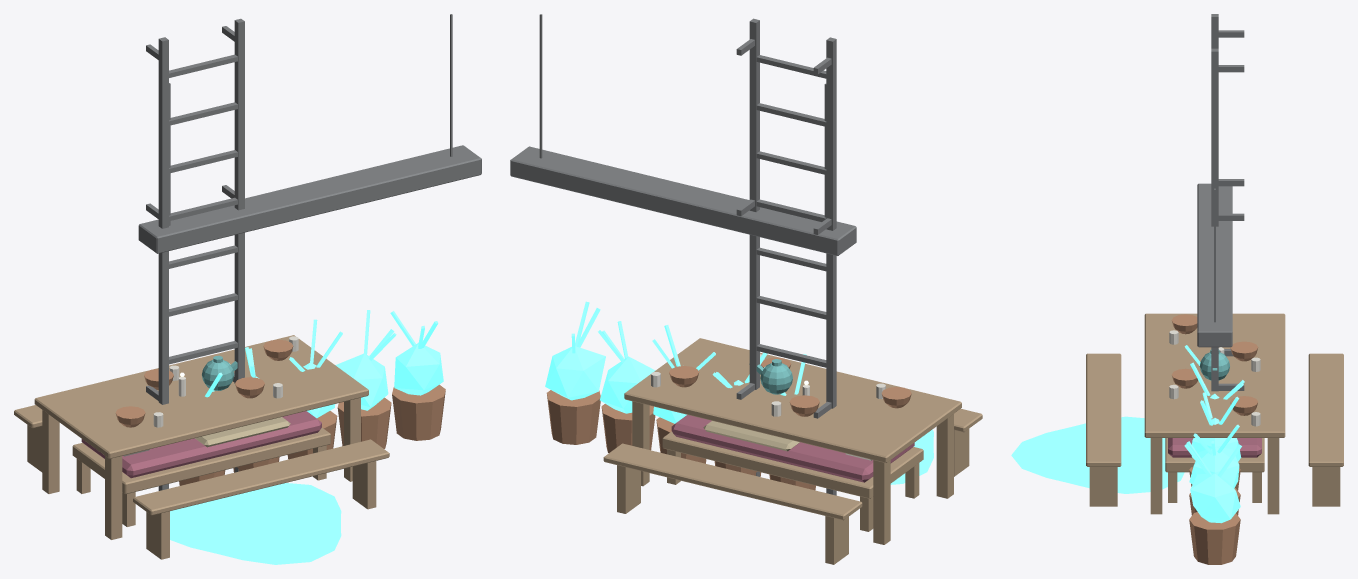
Rendered from under_safe.glb.
The picture shows the model from 3 angles, left to right: view 1: azimuth 30°, elevation 25°; view 2: azimuth 150°, elevation 25°; view 3: azimuth 270°, elevation 25°; orthographic projection. The views are drawn at different scales.
Visible parts, largest first — view 1: us_table_mesh, us_ladder_mesh, us_garden_mesh, us_cot_mesh; view 2: us_table_mesh, us_garden_mesh, us_ladder_mesh, us_cot_mesh; view 3: us_table_mesh, us_garden_mesh, us_ladder_mesh, us_cot_mesh.
Part boxes in pixels (box(x1,y1,x2,y2)): us_table_mesh: box(14, 335, 389, 559); us_ladder_mesh: box(146, 18, 341, 564); us_garden_mesh: box(138, 14, 481, 485); us_cot_mesh: box(72, 411, 330, 526); us_table_mesh: box(603, 338, 982, 564); us_garden_mesh: box(510, 14, 856, 490); us_ladder_mesh: box(736, 18, 933, 495); us_cot_mesh: box(662, 415, 923, 531); us_table_mesh: box(1086, 313, 1343, 514); us_garden_mesh: box(1184, 183, 1244, 564); us_ladder_mesh: box(1011, 14, 1244, 493); us_cot_mesh: box(1165, 438, 1264, 502).
Bounding box in the file's own units: 3.7 × 4 × 2.84.
